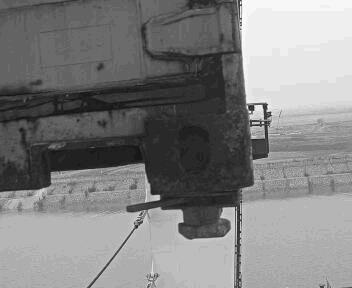twist_lock_1: (173, 127, 198, 147)
